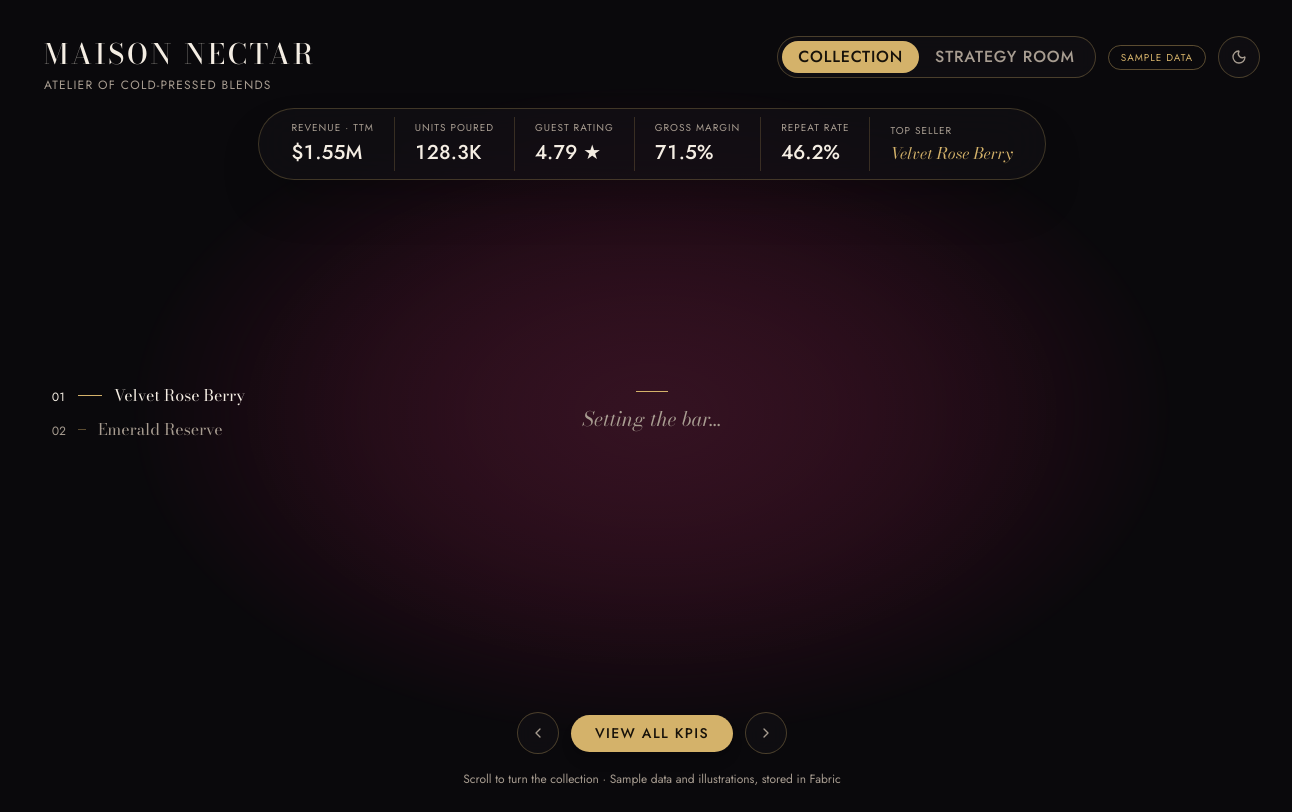
Scenario: App › opens the strategy room with the research and the labs
Click the tab "Strategy room" at [1005, 57], box [919,41,1091,73]
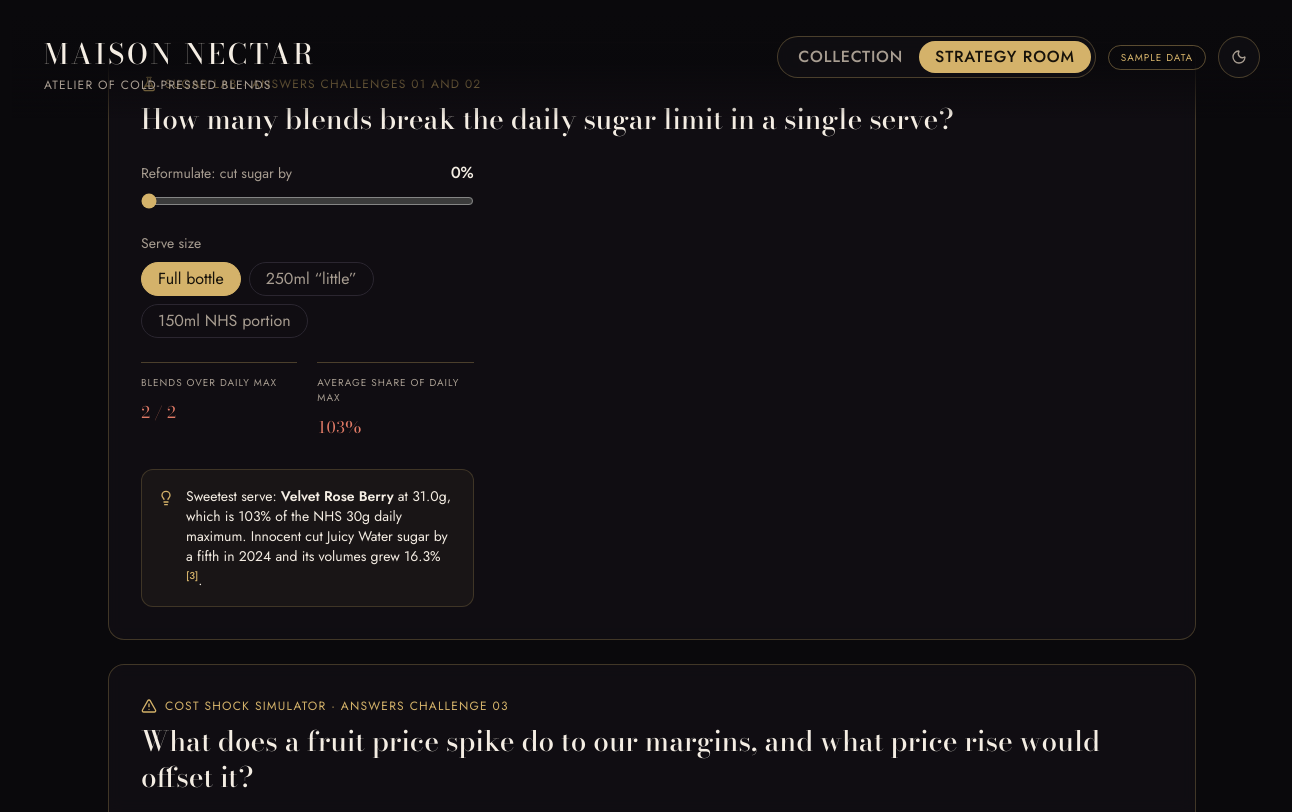
Expected: the text "2 / 2" is shown, [141,400,176,424]
